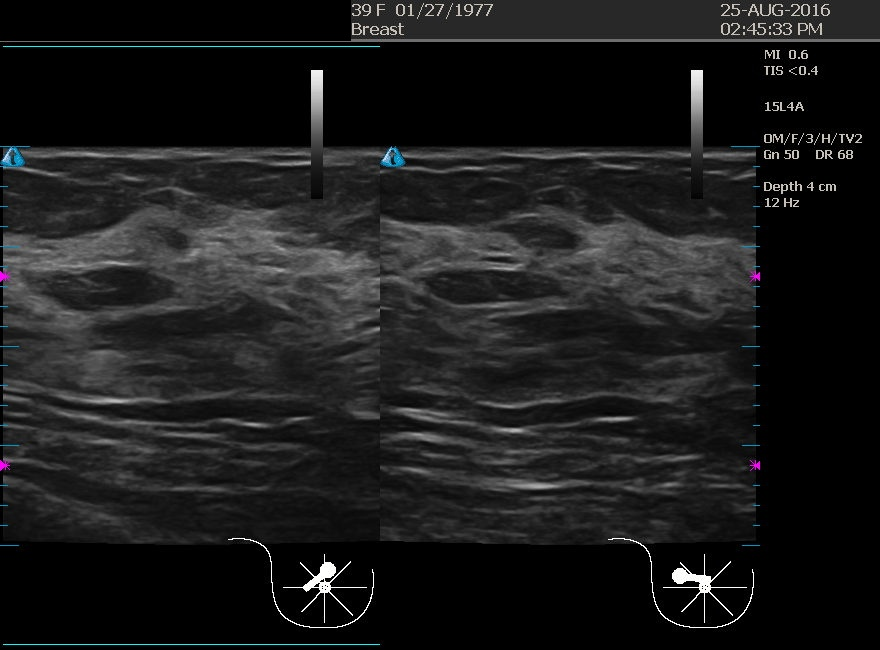Benign: (21, 193, 221, 393), (390, 183, 590, 383)
